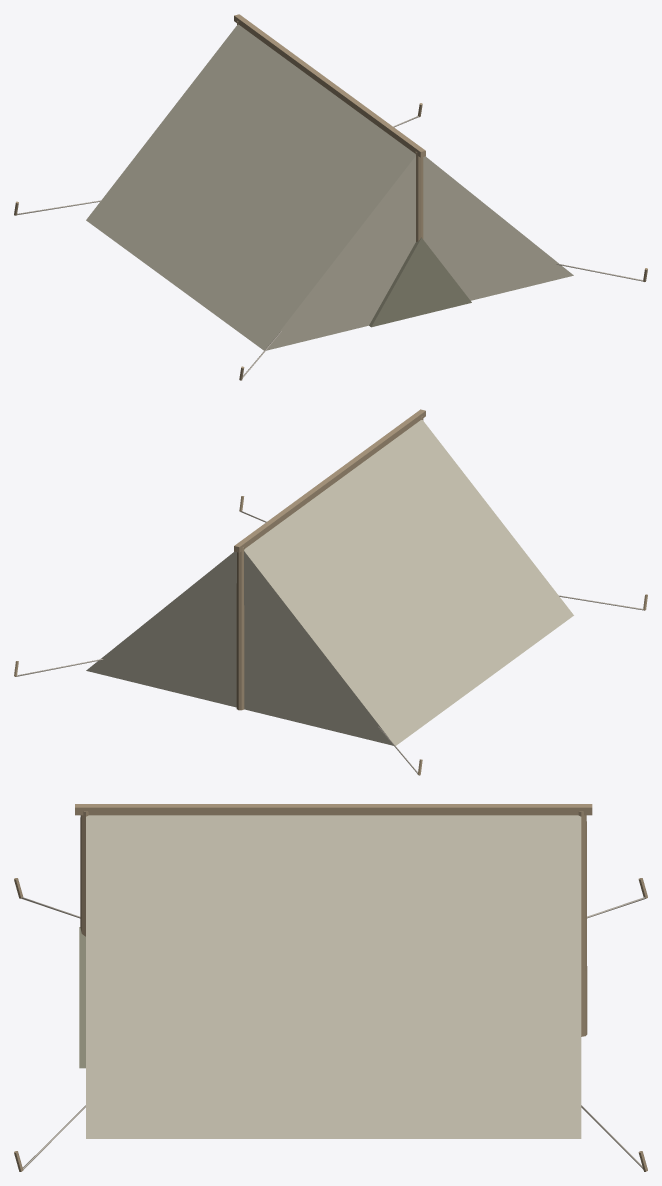
The model's file is trench-line-1917-ridge-tent-0ddfce2e__24123.glb.
The picture shows the model from 3 angles, top to bottom: view 1: azimuth 30°, elevation 25°; view 2: azimuth 150°, elevation 25°; view 3: azimuth 270°, elevation 25°; orthographic projection. The views are drawn at different scales.
Visible parts, largest first — view 1: ridge-tent; view 2: ridge-tent; view 3: ridge-tent.
Part boxes in pixels (x1,y1,x2,y2): ridge-tent: (14, 14, 647, 380); ridge-tent: (14, 409, 647, 775); ridge-tent: (14, 804, 647, 1171).
Bounding box in the file's own units: 6.04 × 2.35 × 5.89.
